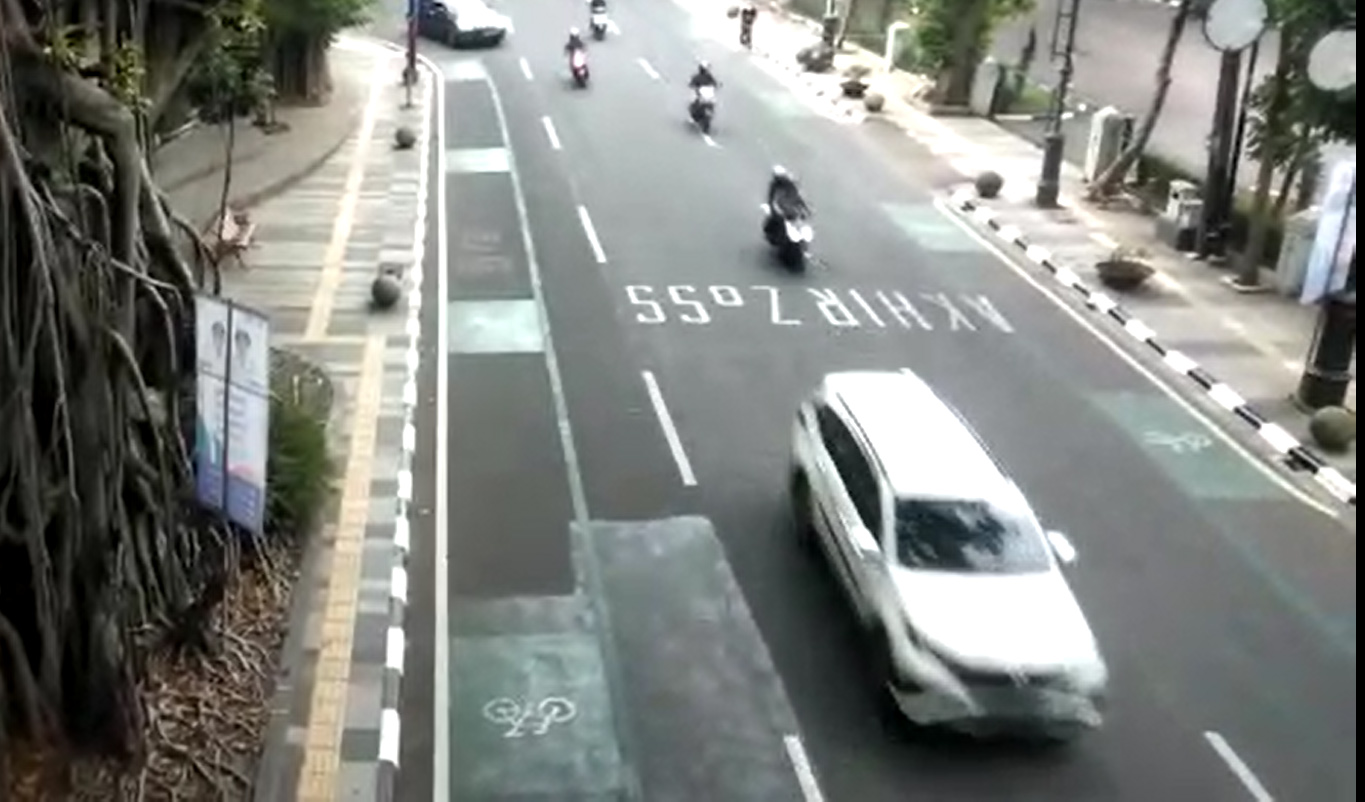mobil: (758, 349, 1136, 767)
motor: (743, 157, 831, 286), (677, 51, 734, 145), (555, 23, 602, 95)
